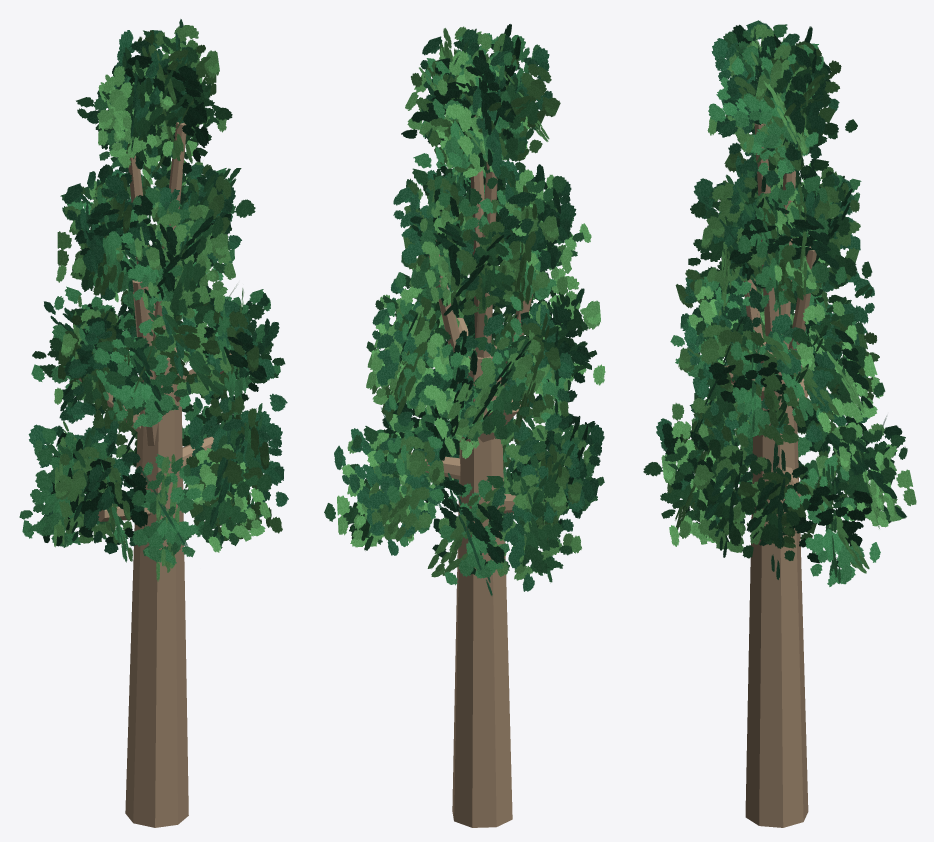
File: Cypress.glb
3 views of the same model, side by side, from view 1: azimuth 30°, elevation 25°; view 2: azimuth 150°, elevation 25°; view 3: azimuth 270°, elevation 25° (orthographic).
Parts seen in each view (by area): view 1: Trunk, FoliageCard_07_03, FoliageCard_16_00, FoliageCard_24_03, FoliageCard_08_02, FoliageCard_26_00, FoliageCard_16_03, FoliageCard_08_00, FoliageCard_25_03, FoliageCard_06_00, FoliageCard_08_03, FoliageCard_32_03 (+71 smaller); view 2: Trunk, FoliageCard_13_01, FoliageCard_04_00, FoliageCard_03_01, FoliageCard_13_00, FoliageCard_23_01, FoliageCard_14_01, FoliageCard_12_02, FoliageCard_30_02, FoliageCard_03_00, FoliageCard_22_01, FoliageCard_02_00 (+65 smaller); view 3: Trunk, FoliageCard_01_03, FoliageCard_19_01, FoliageCard_11_03, FoliageCard_35_02, FoliageCard_09_02, FoliageCard_10_02, FoliageCard_09_01, FoliageCard_02_02, FoliageCard_01_02, FoliageCard_08_03, FoliageCard_11_02 (+56 smaller).
Boxes of the visible parts, x1=… form: Trunk: x1=125, y1=347, x2=188, y2=827; FoliageCard_07_03: x1=113, y1=454, x2=219, y2=565; FoliageCard_16_00: x1=93, y1=318, x2=190, y2=429; FoliageCard_24_03: x1=64, y1=174, x2=151, y2=300; FoliageCard_08_02: x1=184, y1=428, x2=271, y2=548; FoliageCard_26_00: x1=145, y1=206, x2=235, y2=315; FoliageCard_16_03: x1=92, y1=335, x2=187, y2=421; FoliageCard_08_00: x1=187, y1=443, x2=270, y2=552; FoliageCard_25_03: x1=93, y1=186, x2=205, y2=312; FoliageCard_06_00: x1=83, y1=451, x2=144, y2=554; FoliageCard_08_03: x1=186, y1=448, x2=282, y2=541; FoliageCard_32_03: x1=98, y1=64, x2=174, y2=157; Trunk: x1=452, y1=345, x2=512, y2=827; FoliageCard_13_01: x1=447, y1=337, x2=545, y2=445; FoliageCard_04_00: x1=486, y1=475, x2=572, y2=573; FoliageCard_03_01: x1=427, y1=479, x2=509, y2=585; FoliageCard_13_00: x1=469, y1=334, x2=529, y2=441; FoliageCard_23_01: x1=460, y1=191, x2=576, y2=297; FoliageCard_14_01: x1=483, y1=303, x2=574, y2=440; FoliageCard_12_02: x1=416, y1=333, x2=492, y2=458; FoliageCard_30_02: x1=437, y1=51, x2=530, y2=172; FoliageCard_03_00: x1=432, y1=480, x2=504, y2=574; FoliageCard_22_01: x1=451, y1=221, x2=519, y2=315; FoliageCard_02_00: x1=369, y1=436, x2=449, y2=539; Trunk: x1=745, y1=342, x2=808, y2=827; FoliageCard_01_03: x1=784, y1=454, x2=880, y2=586; FoliageCard_19_01: x1=711, y1=329, x2=805, y2=447; FoliageCard_11_03: x1=796, y1=301, x2=883, y2=432; FoliageCard_35_02: x1=735, y1=42, x2=823, y2=148; FoliageCard_09_02: x1=679, y1=445, x2=767, y2=552; FoliageCard_10_02: x1=753, y1=314, x2=842, y2=442; FoliageCard_09_01: x1=697, y1=439, x2=764, y2=558; FoliageCard_02_02: x1=828, y1=427, x2=907, y2=520; FoliageCard_01_02: x1=793, y1=486, x2=872, y2=566; FoliageCard_08_03: x1=661, y1=421, x2=724, y2=546; FoliageCard_11_02: x1=791, y1=313, x2=885, y2=405.
Bounding box in the file's own units: 3.03 × 9.14 × 2.95.
5 materials, 3 textured.
